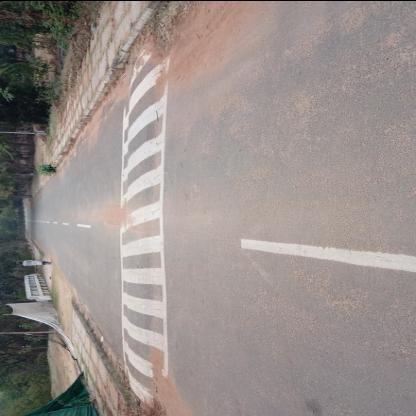speed-bumps: (116, 31, 172, 406)
